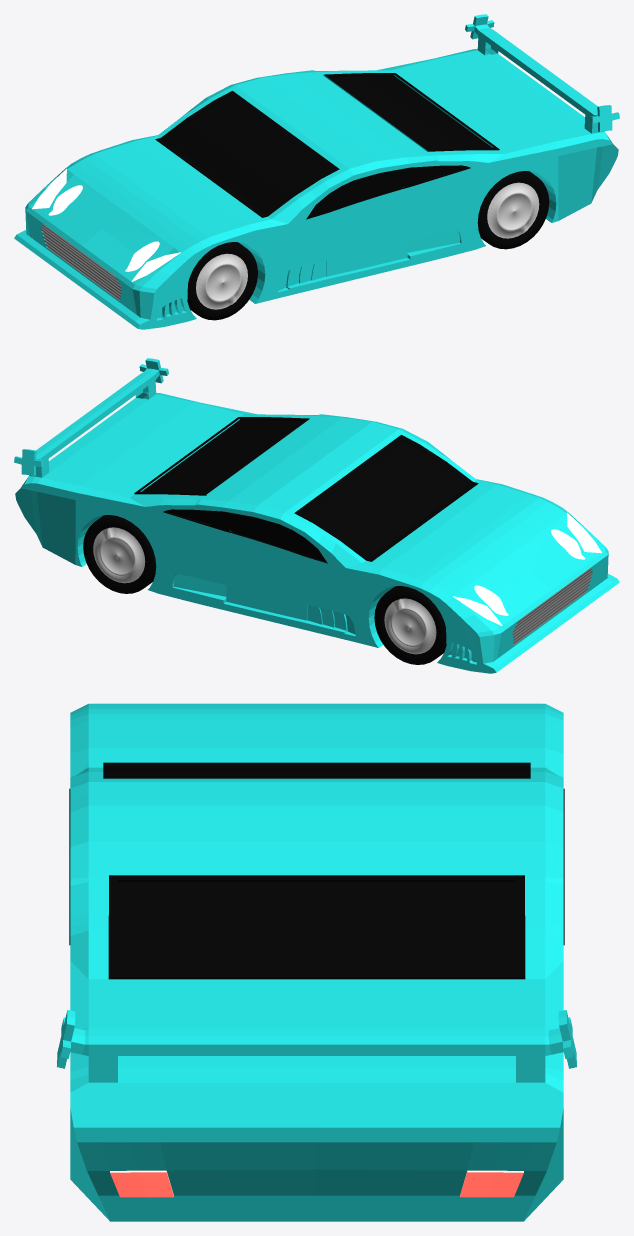
The model's file is Audi_Q2.glb.
3 renders of one model, top to bottom at view 1: azimuth 30°, elevation 25°; view 2: azimuth 150°, elevation 25°; view 3: azimuth 270°, elevation 25°, orthographic. The views are drawn at different scales.
Parts seen in each view (by area): view 1: Blue Car.002, Cylinder.003, Cylinder.002; view 2: Blue Car.002, Cylinder.001, Cylinder; view 3: Blue Car.002.
Boxes of the visible parts, x1,y1,x2,y2 form: Blue Car.002: (14,14,619,329); Cylinder.003: (477,171,549,249); Cylinder.002: (187,242,257,320); Blue Car.002: (14,358,619,673); Cylinder.001: (83,515,156,593); Cylinder: (374,586,446,664); Blue Car.002: (57,702,576,1221).
Bounding box in the file's own units: 4.17 × 1.03 × 1.95.
